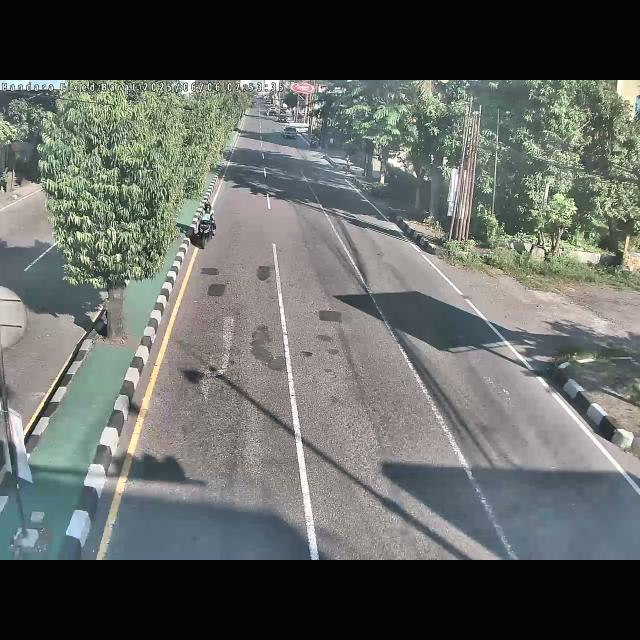Motor: (193, 198, 220, 252)
